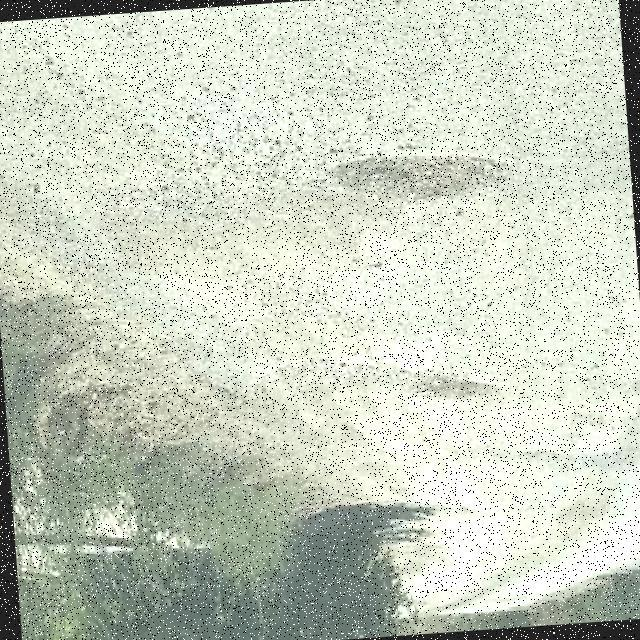Pothole: (327, 150, 509, 203), (400, 370, 506, 400)
